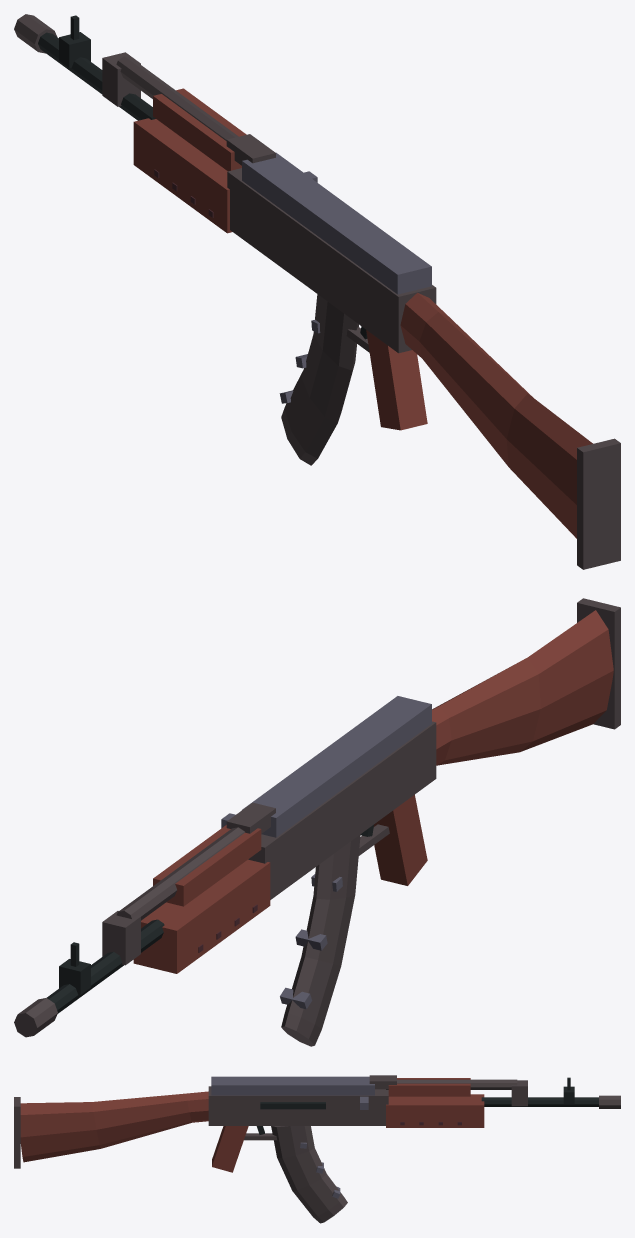
3 renders of one model, top to bottom at view 1: azimuth 30°, elevation 25°; view 2: azimuth 150°, elevation 25°; view 3: azimuth 270°, elevation 25°, orthographic. The views are drawn at different scales.
Parts seen in each view (by area): view 1: AK47, Incarcator; view 2: AK47, Incarcator; view 3: AK47, Incarcator.
Part boxes in pixels (x1,y1,x2,y2): AK47: (14, 14, 620, 569); Incarcator: (279, 294, 358, 465); AK47: (14, 598, 620, 1037); Incarcator: (280, 834, 360, 1046); AK47: (14, 1075, 620, 1172); Incarcator: (271, 1126, 347, 1223).
Bounding box in the file's own units: 0.074 × 0.2931 × 1.11.
